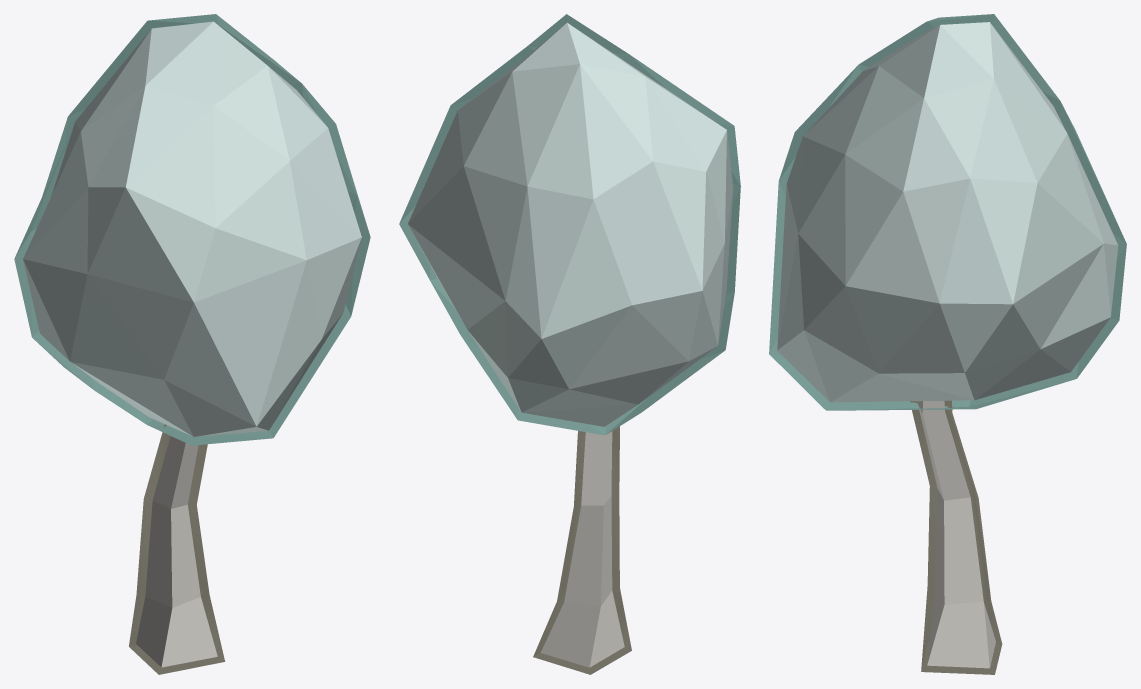
File: tree-4.glb
3 views of the same model, side by side, from view 1: azimuth 30°, elevation 25°; view 2: azimuth 150°, elevation 25°; view 3: azimuth 270°, elevation 25° (orthographic). The views are drawn at different scales.
Visible parts, largest first — view 1: foliage, trunk.001, trunk; view 2: foliage, trunk.001, trunk; view 3: foliage, trunk.001, trunk.
Part boxes in pixels (box(x1,y1,x2,y2)): foliage: box(23, 21, 361, 436); trunk.001: box(14, 14, 370, 674); trunk: box(136, 436, 217, 667); foliage: box(408, 22, 733, 426); trunk.001: box(399, 14, 740, 674); trunk: box(540, 431, 624, 667); foliage: box(777, 22, 1118, 402); trunk.001: box(769, 14, 1126, 674); trunk: box(917, 400, 995, 668).
Size of the model in its own units: 8.06 by 15.75 by 7.81.
